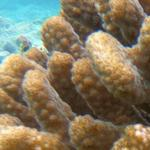alive: (3, 1, 147, 147)
